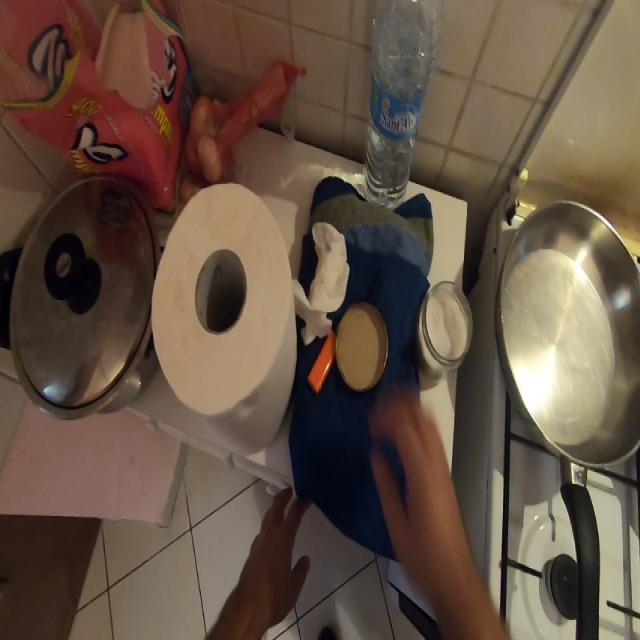jar: (424, 275, 470, 366)
lid: (4, 187, 154, 384)
pan: (491, 186, 631, 640)
paper: (156, 181, 295, 434)
right hand: (366, 392, 466, 620)
water filter: (370, 0, 427, 211)
